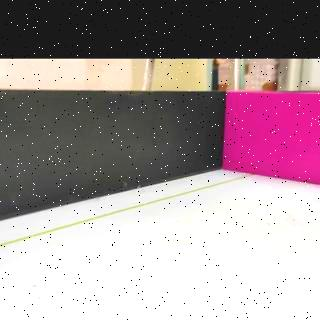xparking: (227, 88, 320, 176)
